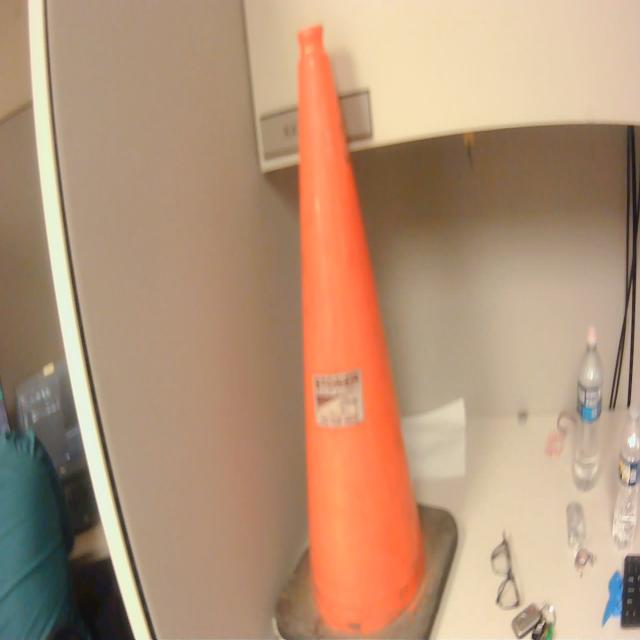traffic cone: (271, 18, 464, 640)
